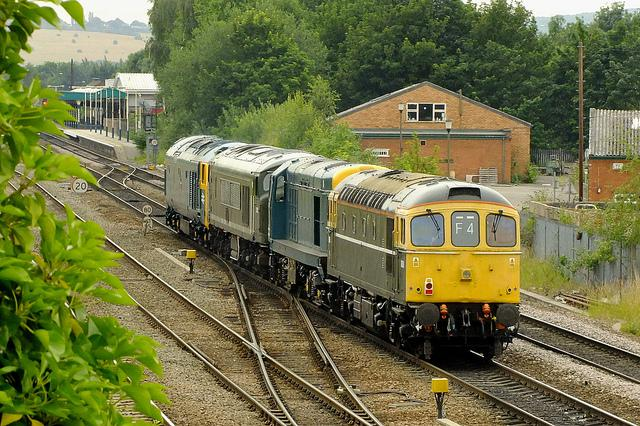Train: (166, 134, 524, 363)
